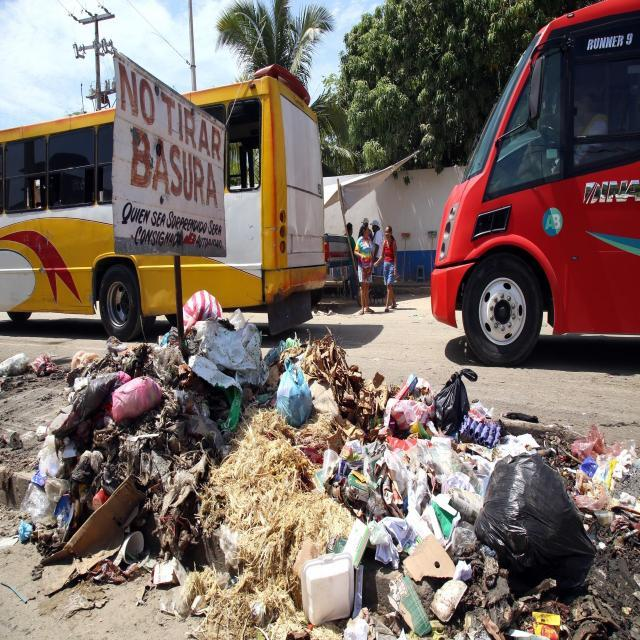Trashbag: (470, 453, 603, 604), (427, 359, 486, 439)
